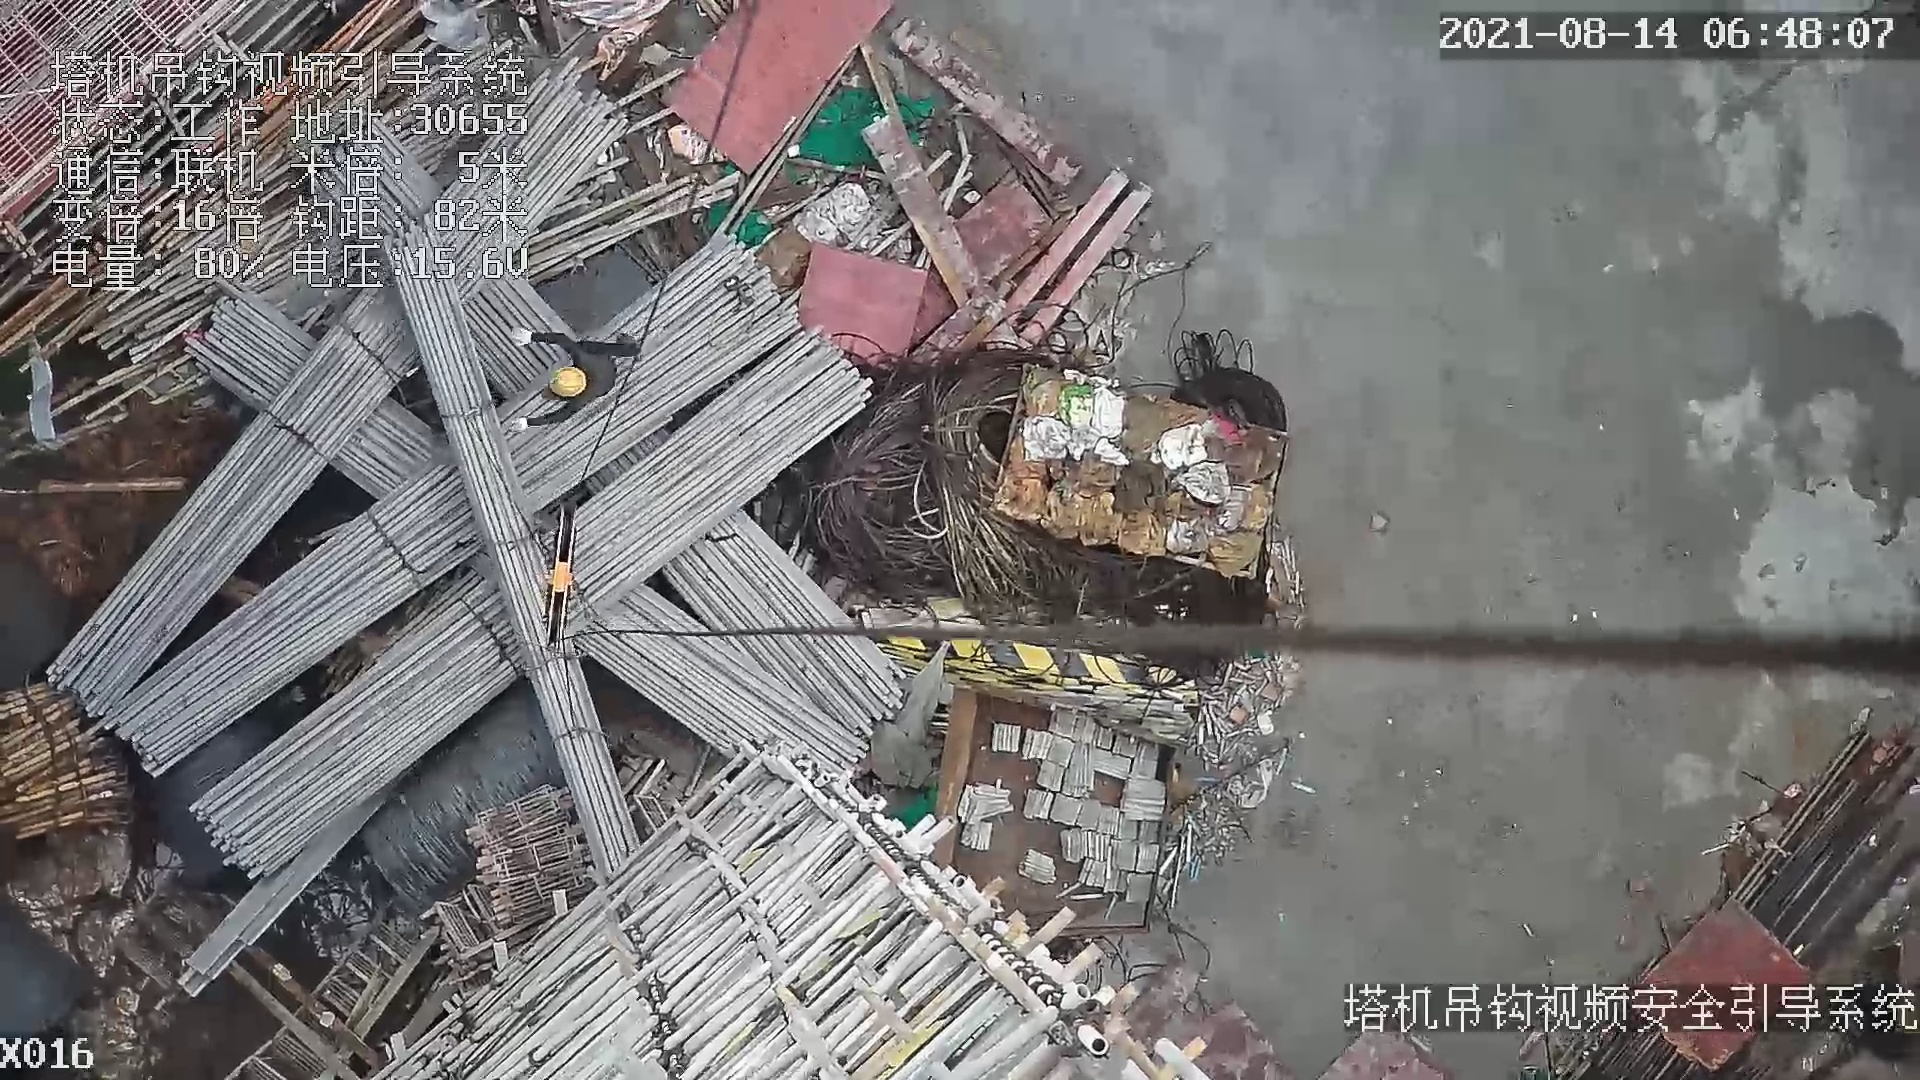helmet: (545, 367, 589, 400)
hook: (544, 495, 578, 656)
person: (501, 315, 640, 436)
scaffold: (1, 674, 141, 834)
